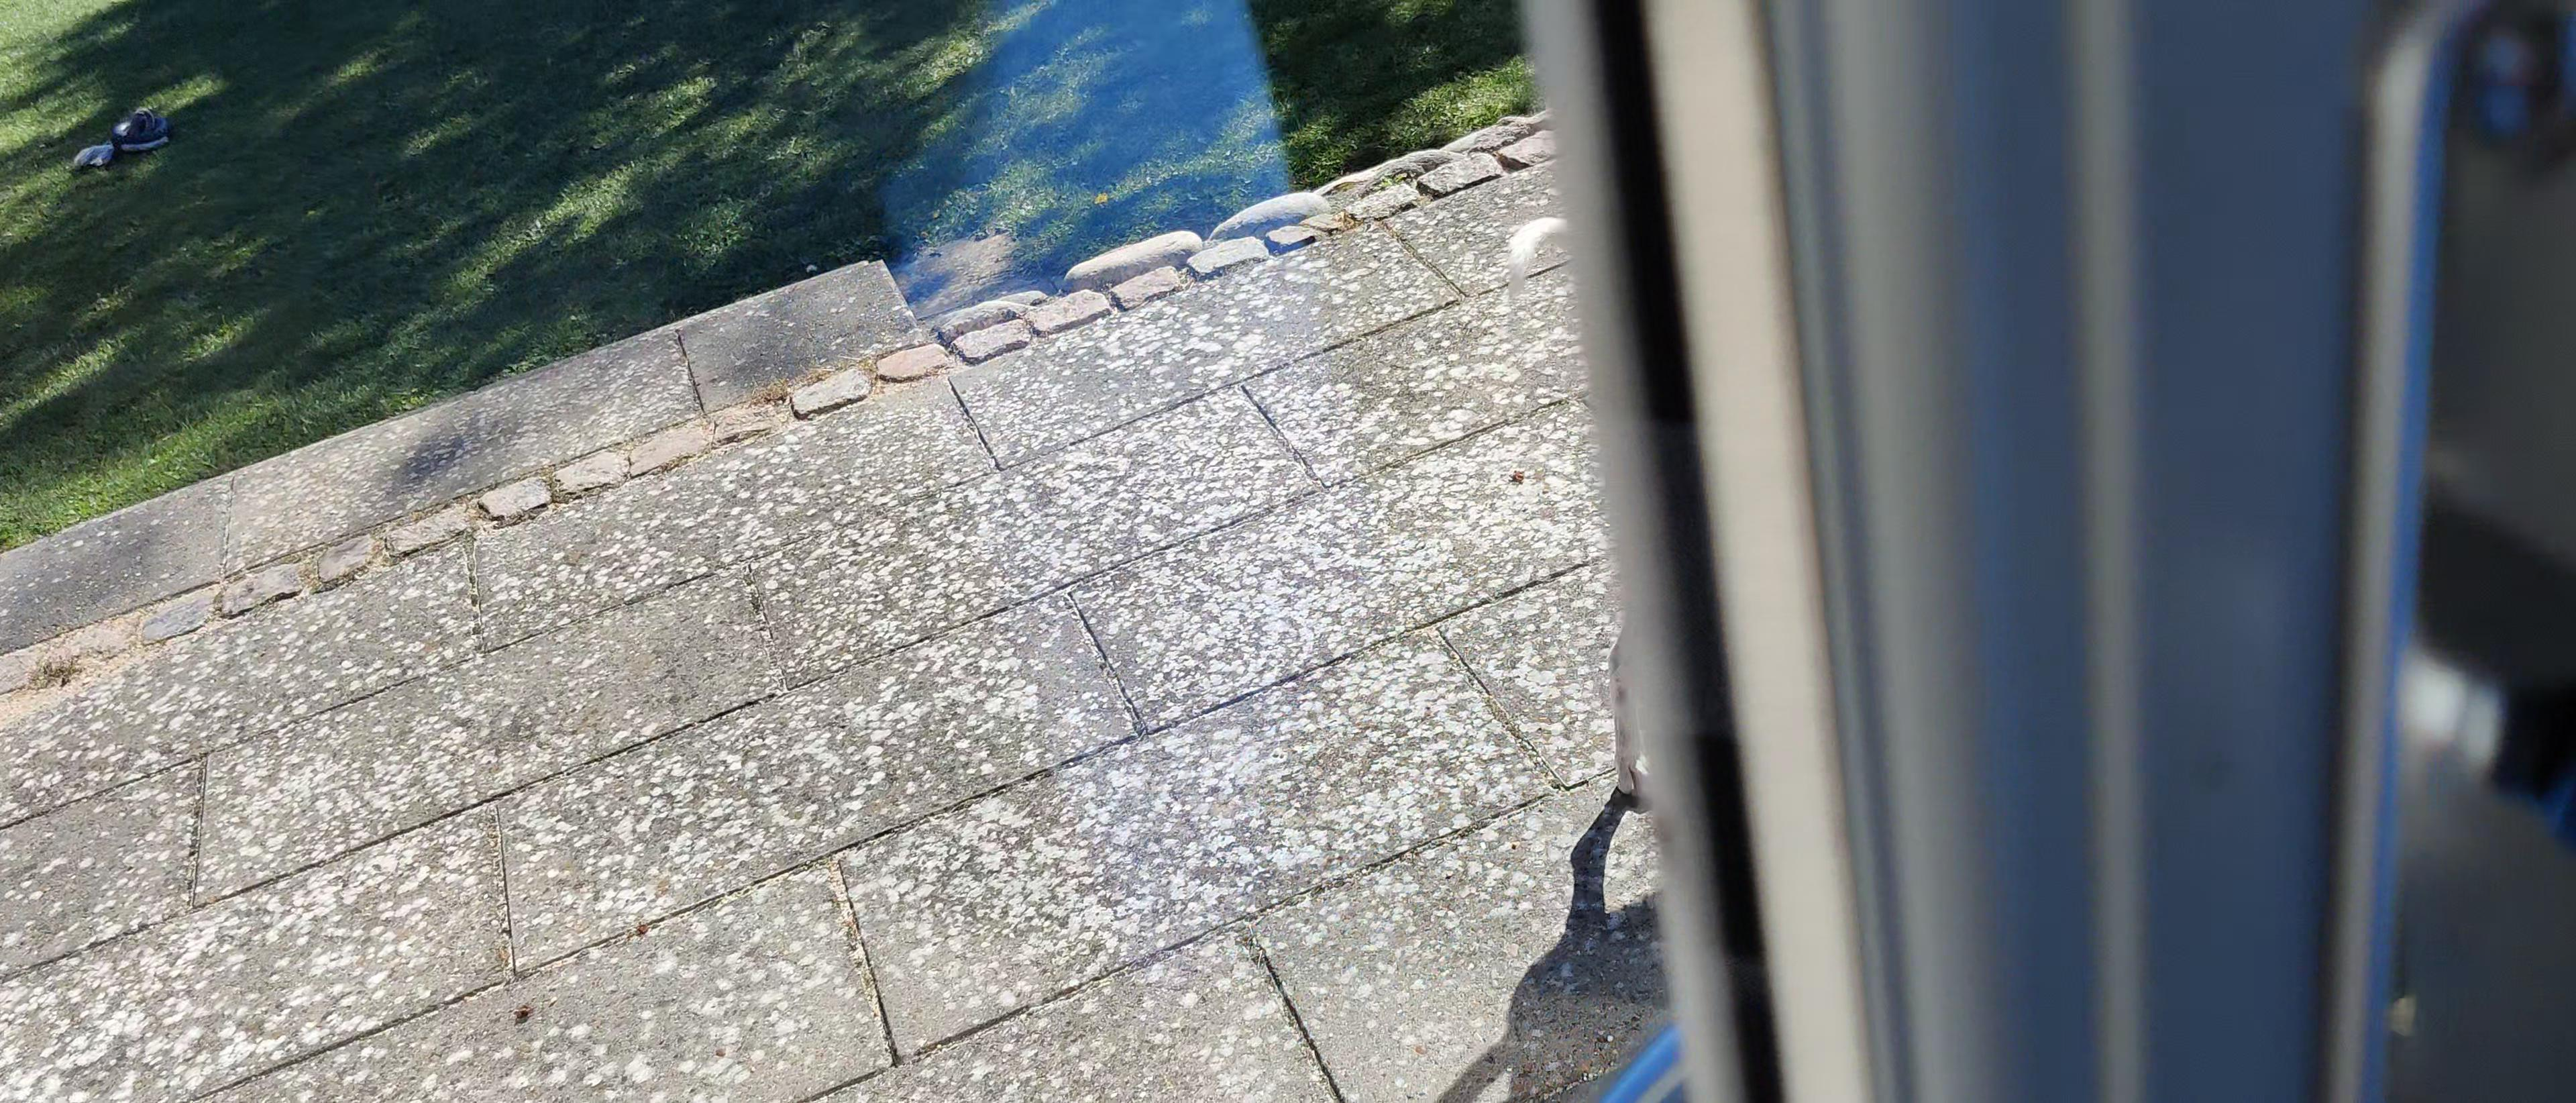Dog: (1598, 610, 1658, 801)
